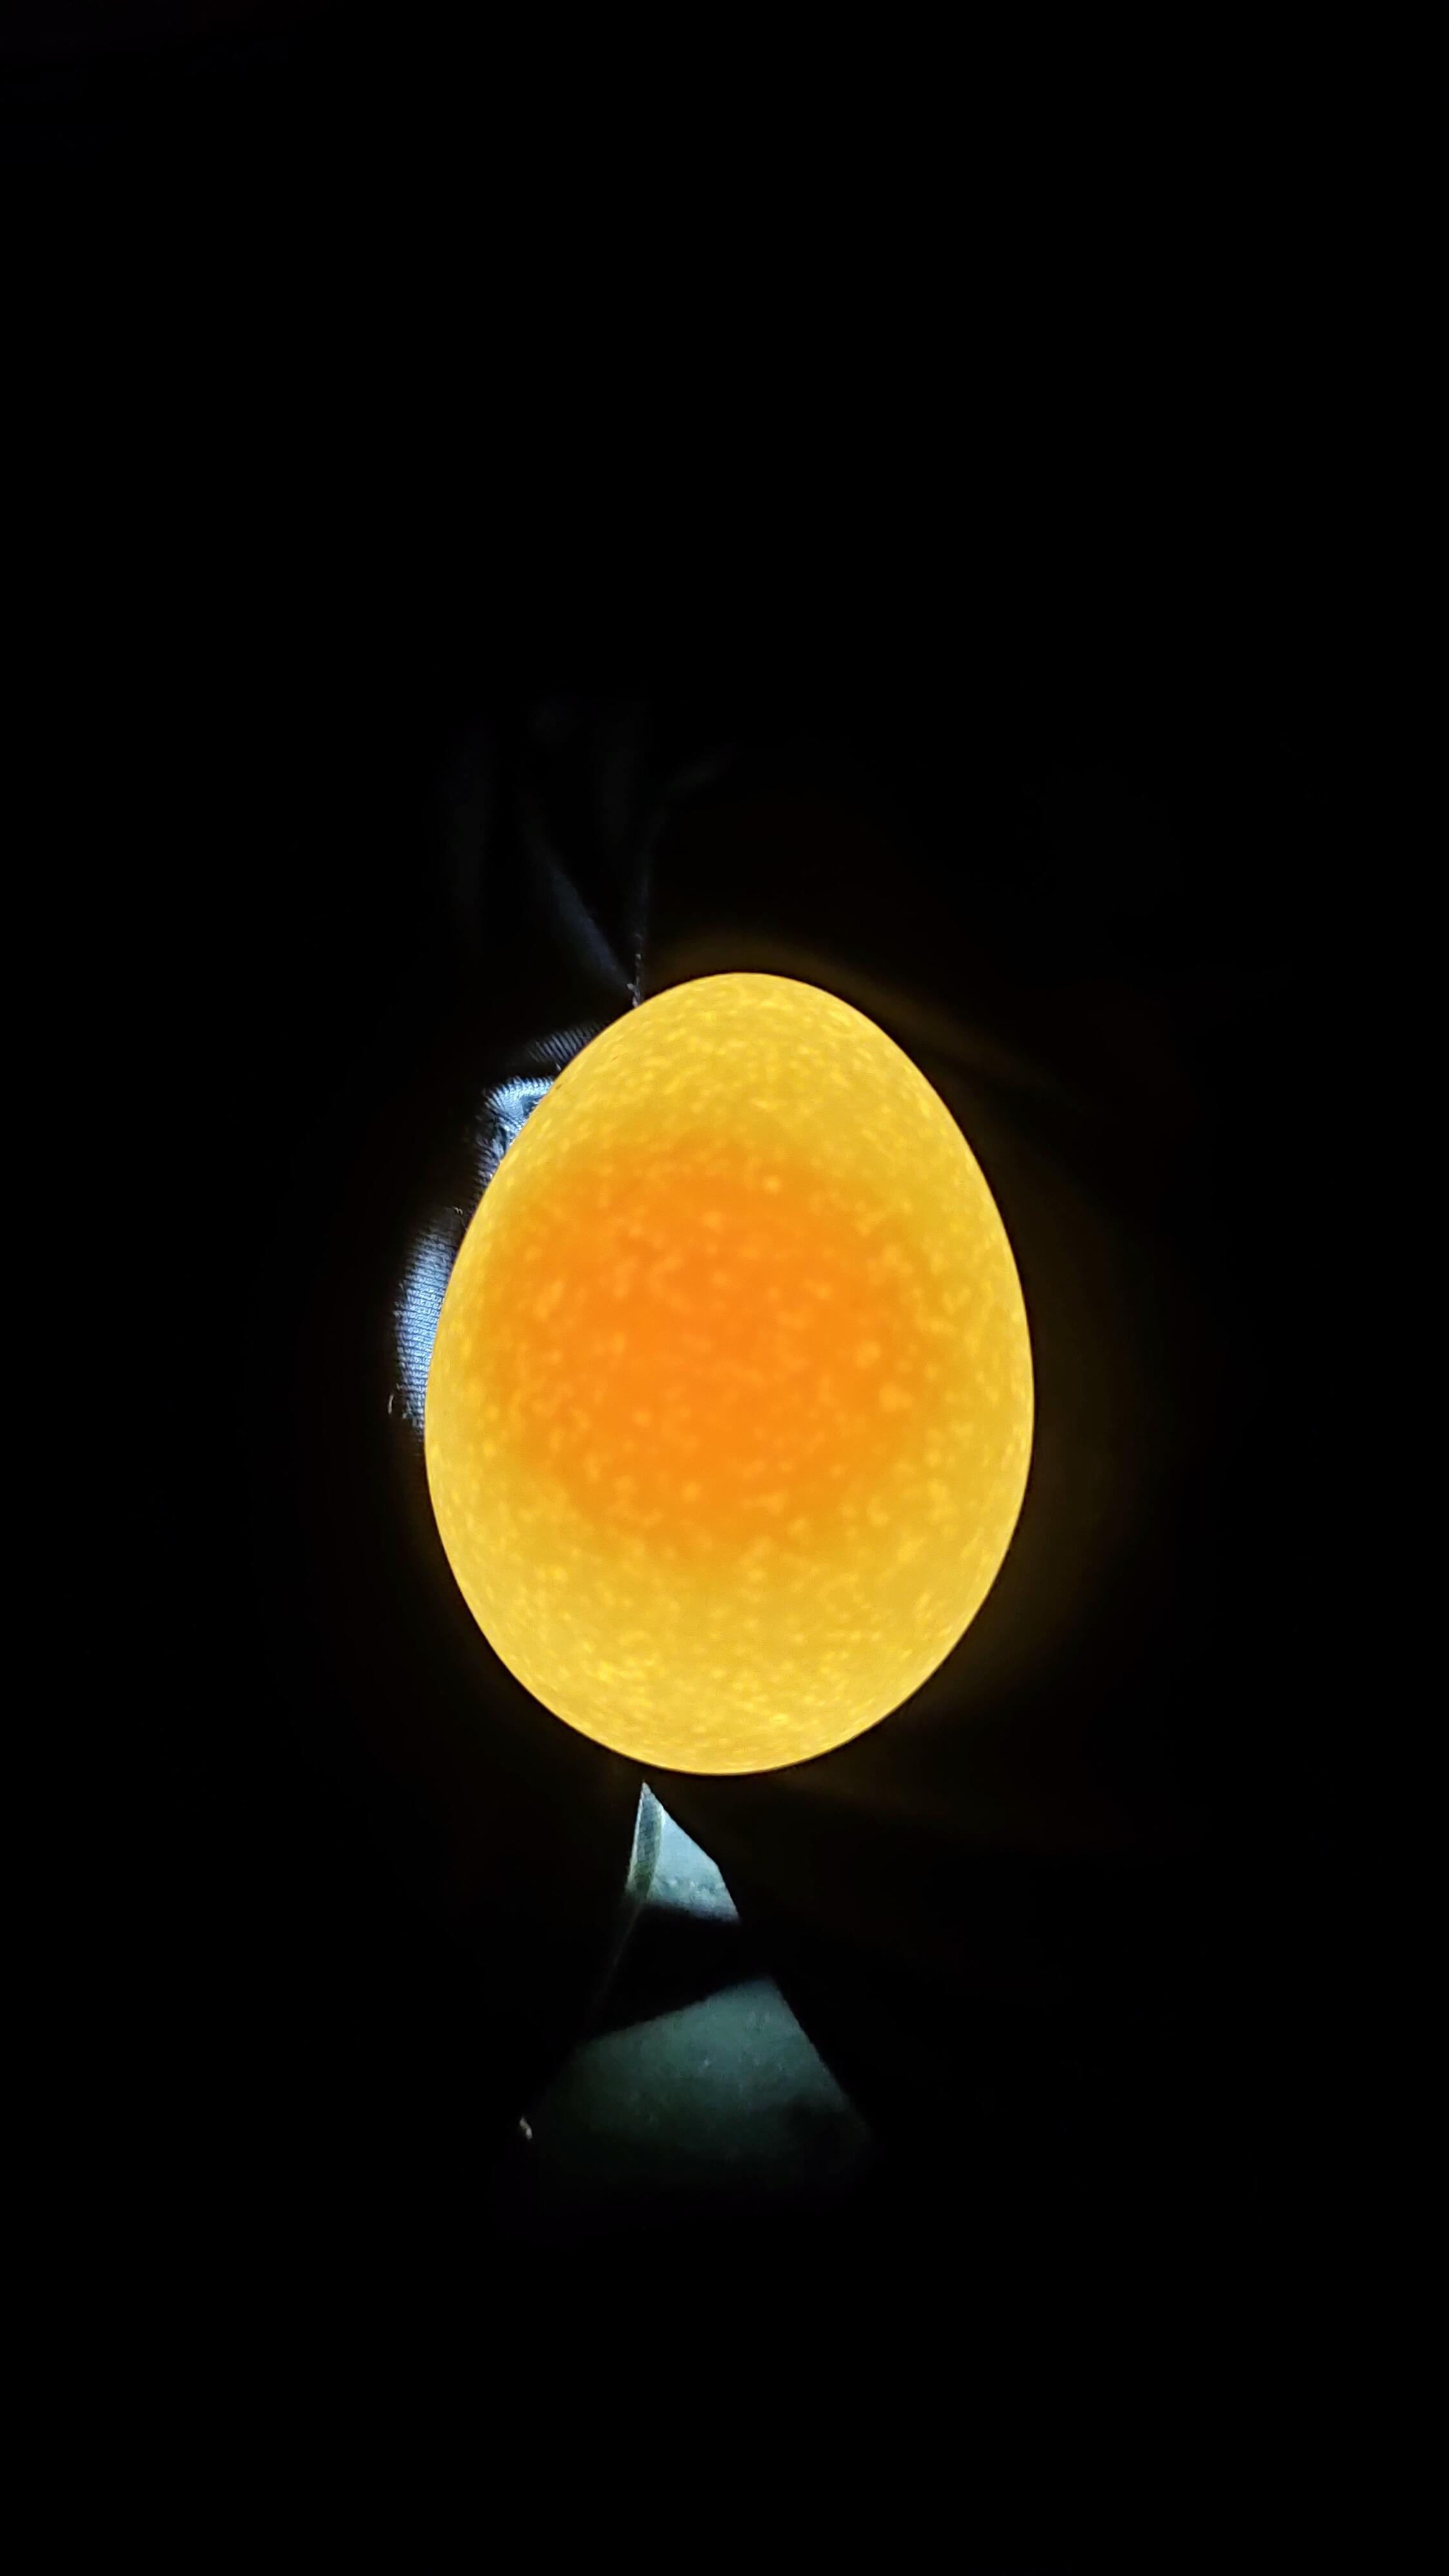A - Good: (380, 908, 1083, 1835)
